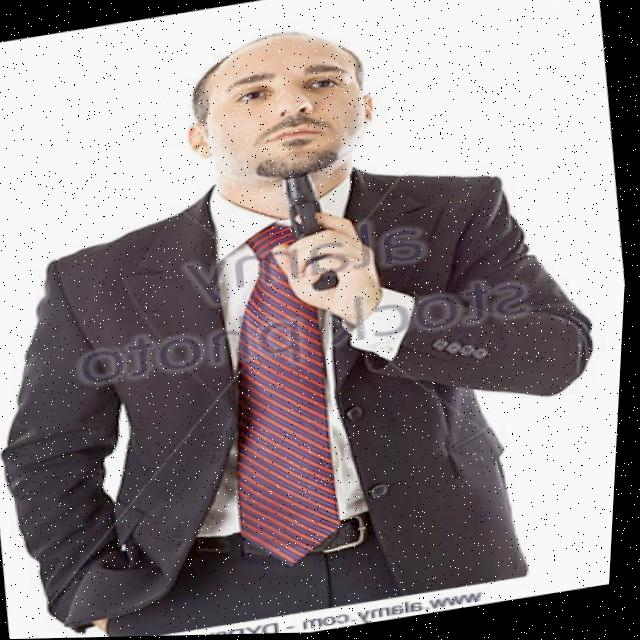pistol: (282, 170, 332, 242)
